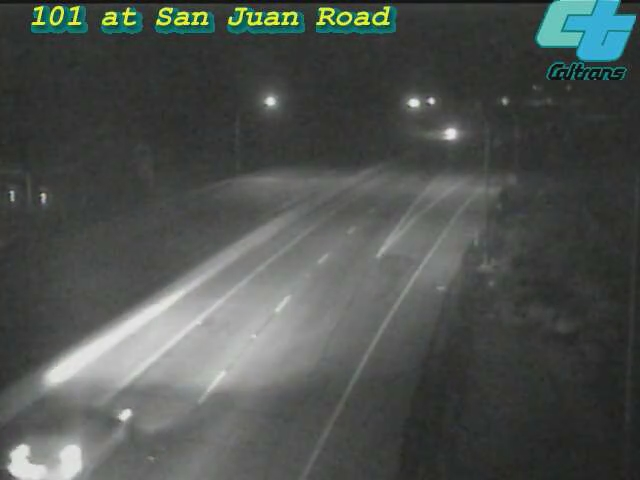vehicle: (7, 389, 117, 480), (428, 108, 478, 158)
